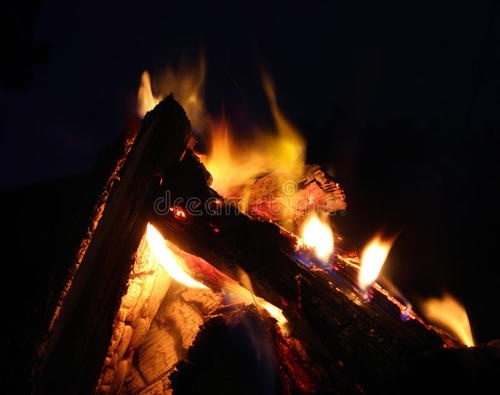fire: (132, 221, 207, 294), (404, 290, 478, 350), (225, 267, 290, 331), (133, 64, 206, 118), (354, 230, 393, 291), (296, 209, 339, 262)
